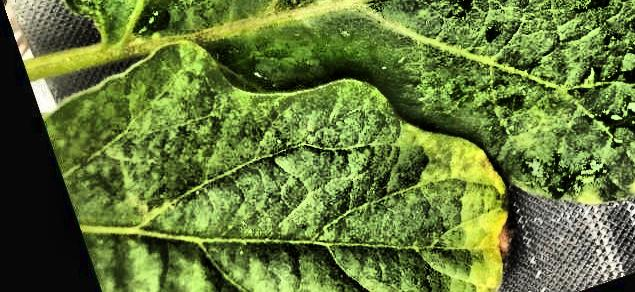Non-critical Stress: (0, 1, 635, 292)
